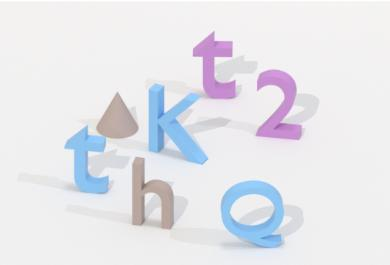0-TamGiac: (93, 89, 141, 139)
K: (146, 82, 209, 169)
Q: (217, 177, 288, 250)
h: (130, 154, 176, 233)
t: (62, 123, 112, 198), (190, 27, 240, 100)
